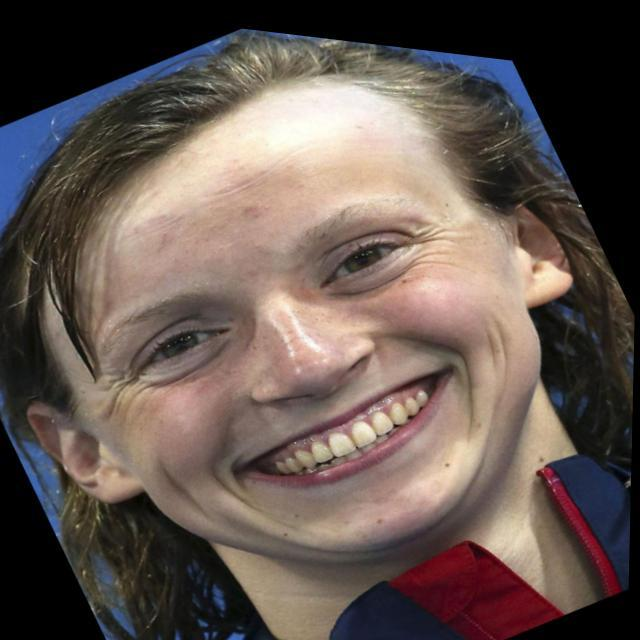Nonhelmet: (2, 29, 633, 636)
